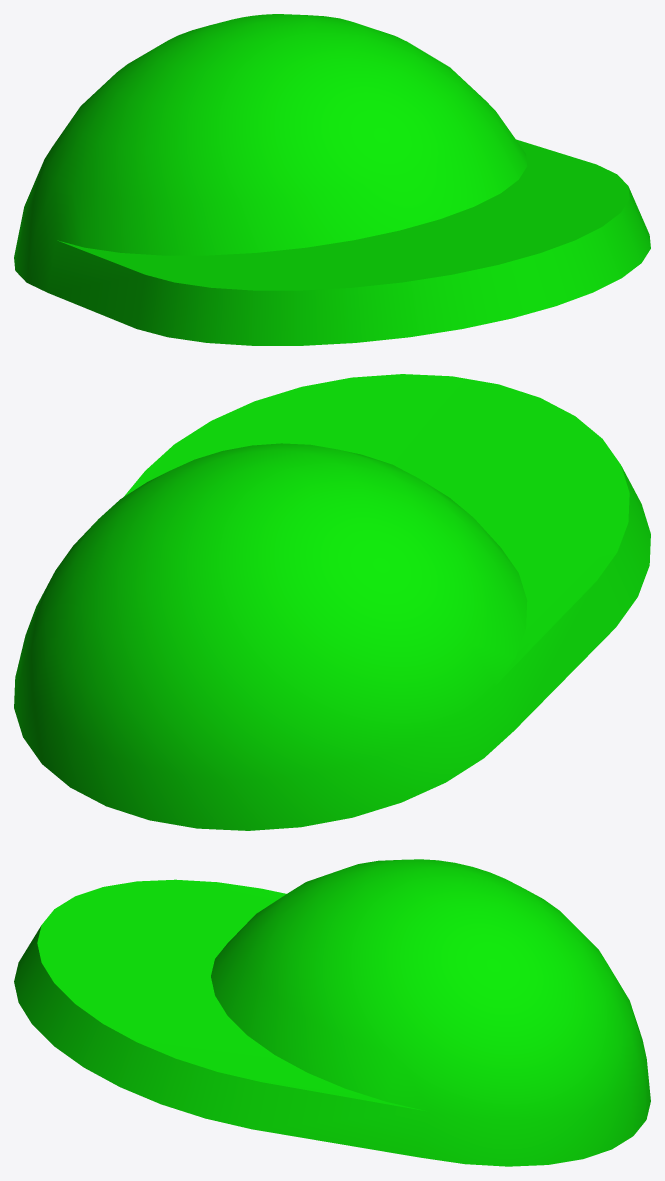
File: bb_hat_green.fbx
The picture shows the model from 3 angles, top to bottom: view 1: azimuth 30°, elevation 25°; view 2: azimuth 150°, elevation 25°; view 3: azimuth 270°, elevation 25°; orthographic projection. The views are drawn at different scales.
Parts seen in each view (by area): view 1: bb hat; view 2: bb hat; view 3: bb hat.
Part boxes in pixels (box(x1,y1,x2,y2)): bb hat: box(14, 14, 650, 345); bb hat: box(14, 374, 650, 830); bb hat: box(14, 859, 650, 1166).
Bounding box in the file's own units: 111 × 55.58 × 145.
